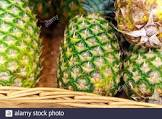Pineapple: (57, 1, 122, 97)
